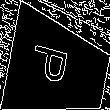P_E: (34, 45, 81, 92)
